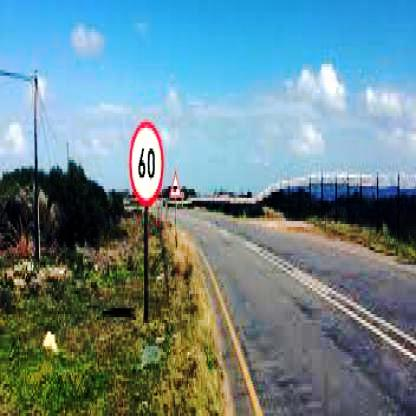Speed Limit -60-: (128, 121, 166, 203)
